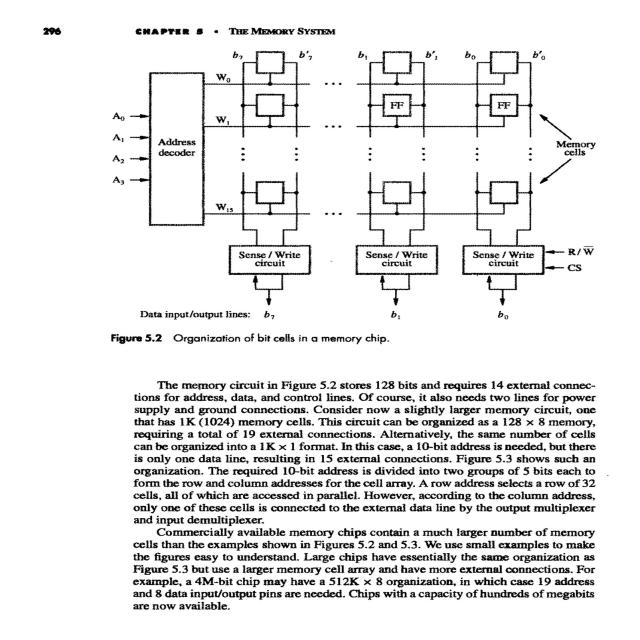diagram: (64, 45, 640, 351), (639, 281, 640, 318)
